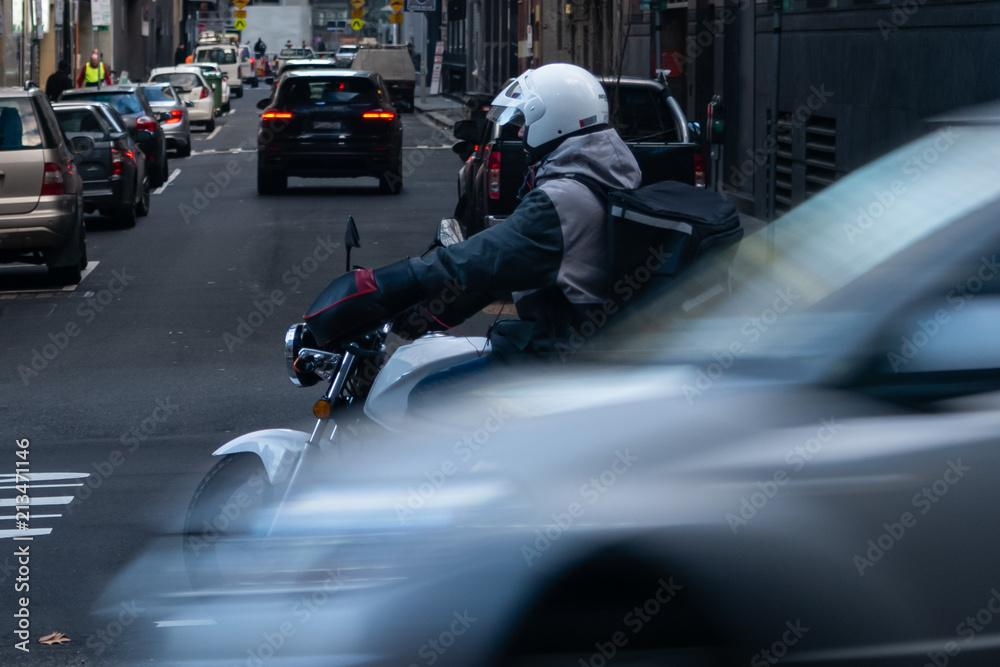helmet: (485, 62, 610, 166)
